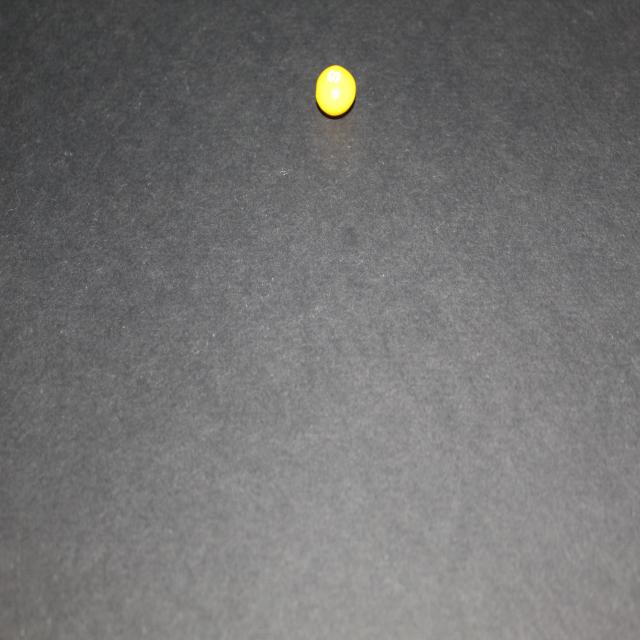smartie: (316, 64, 356, 115)
